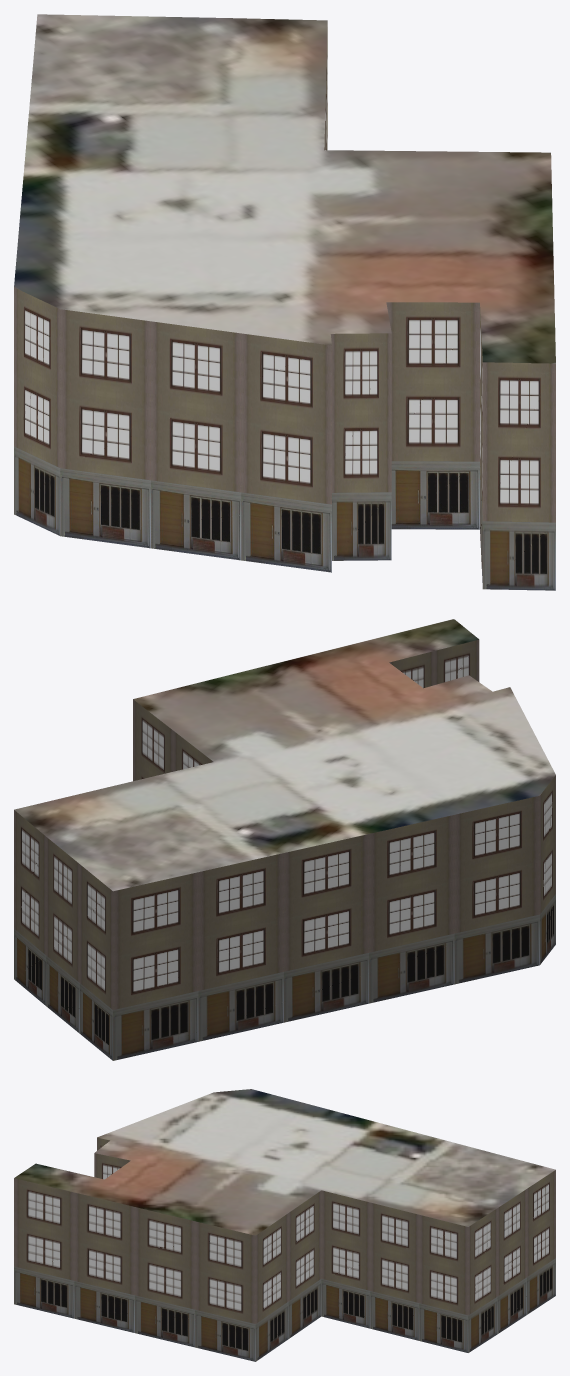
Rendered from T_1T0DX4NVL7.dae.
The picture shows the model from 3 angles, top to bottom: view 1: azimuth 30°, elevation 25°; view 2: azimuth 150°, elevation 25°; view 3: azimuth 270°, elevation 25°; orthographic projection. The views are drawn at different scales.
Visible parts, largest first — view 1: SketchUp (×11); view 2: SketchUp (×11); view 3: SketchUp (×12).
Part boxes in pixels (bbox=[...]): SketchUp (×11): bbox=[14, 14, 555, 590]; SketchUp (×11): bbox=[14, 619, 555, 1060]; SketchUp (×12): bbox=[14, 1089, 555, 1361].
Bounding box in the file's own units: 27.45 × 42.85 × 11.01.
3 materials, 3 textured.
